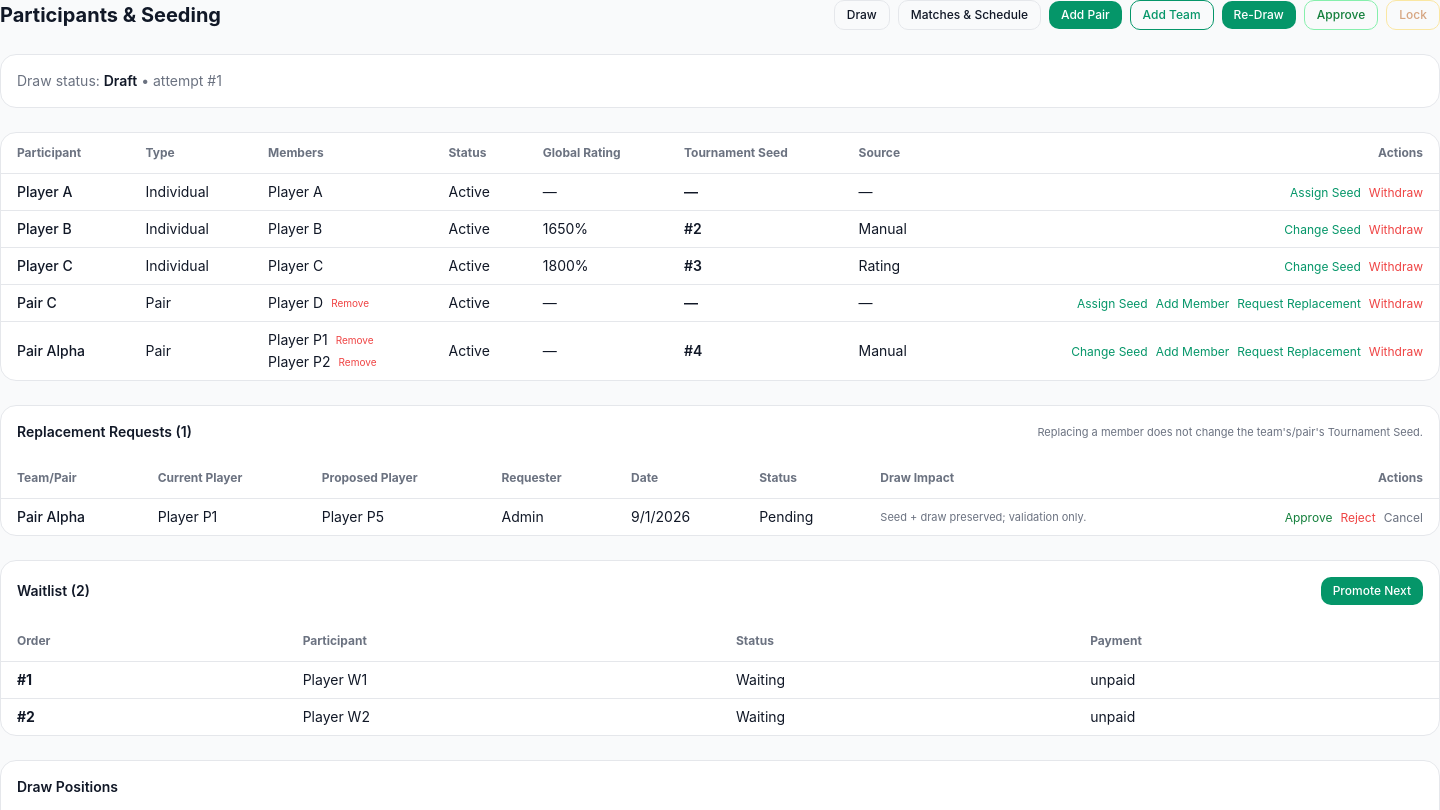
Test: B4 — doubles pairing player picker (name search, competition scope) › an active participant with UNKNOWN competition association is never offered as available
Click the button "Add Pair": (1085, 15) [1049, 1, 1122, 29]
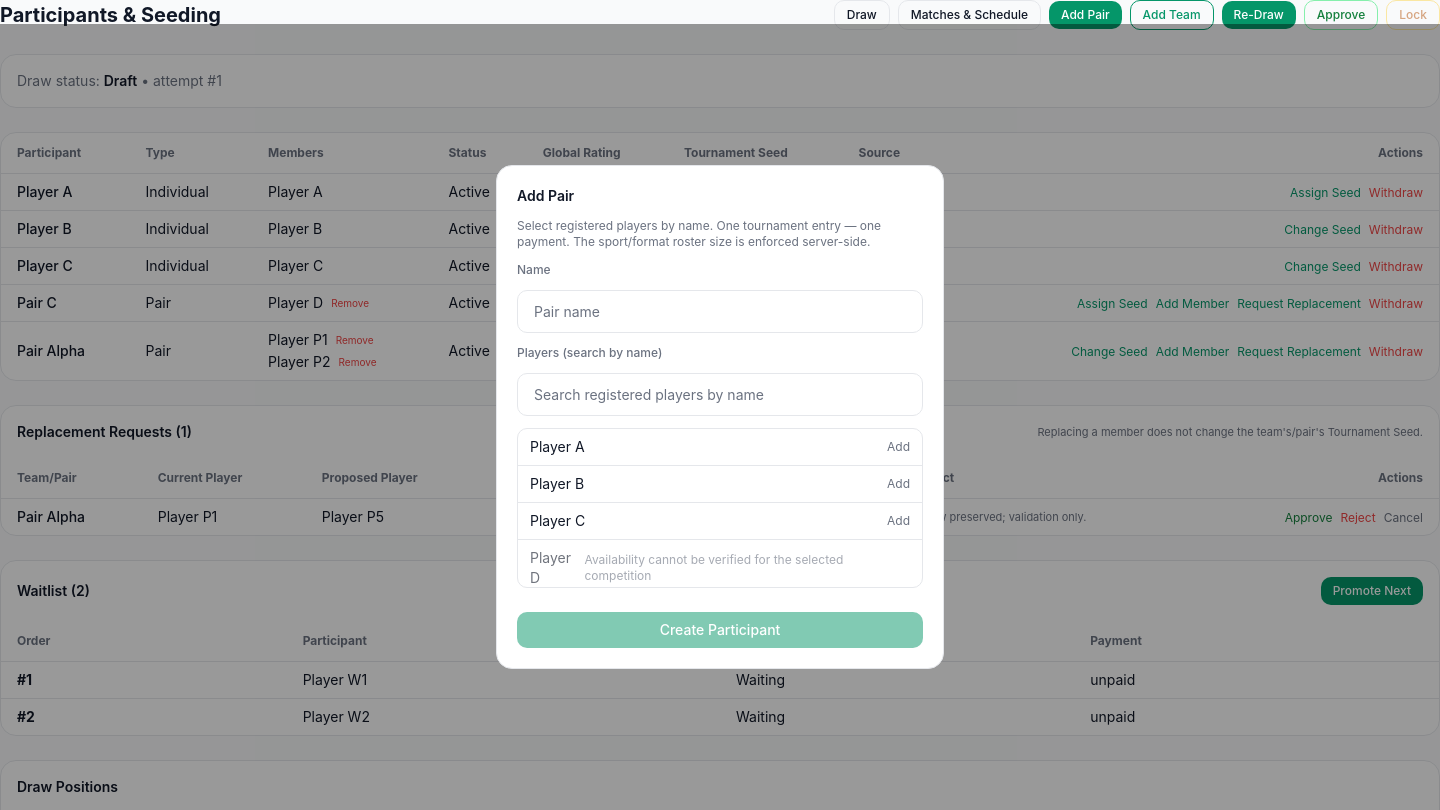
Expected: the search field labelled "Players (search by name)" is shown, [517, 373, 923, 416]
Expected: the text "Availability cannot be verified for the selected competition" is shown, [584, 552, 843, 583]
Expected: the button that starts with "Player D" is disabled, [518, 540, 922, 588]
